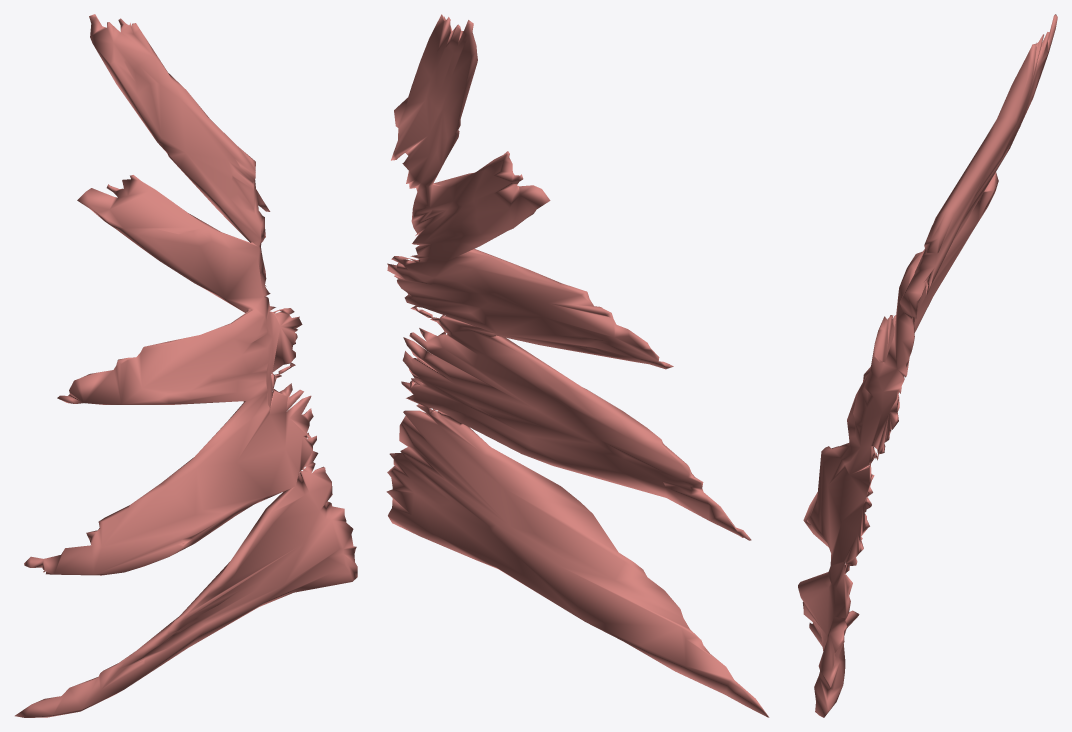
3 views of the same model, side by side, from view 1: azimuth 30°, elevation 25°; view 2: azimuth 150°, elevation 25°; view 3: azimuth 270°, elevation 25° (orthographic). The views are drawn at different scales.
Visible parts, largest first — view 1: ZA_2a64fa6a9cfd416f; view 2: ZA_2a64fa6a9cfd416f; view 3: ZA_2a64fa6a9cfd416f.
Part boxes in pixels (bbox=[...]): ZA_2a64fa6a9cfd416f: bbox=[15, 14, 357, 717]; ZA_2a64fa6a9cfd416f: bbox=[386, 14, 769, 717]; ZA_2a64fa6a9cfd416f: bbox=[798, 14, 1057, 717].
Size of the model in its own units: 0.0855 by 0.149 by 0.0505.
